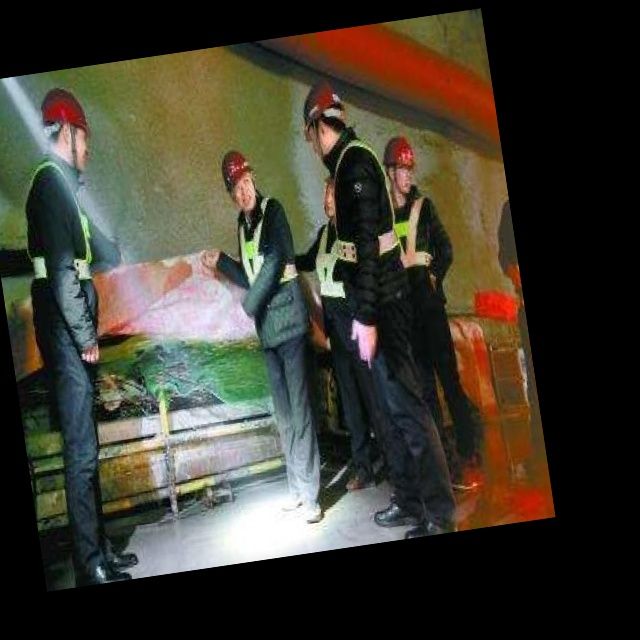Con_Casco: (301, 80, 353, 158)
Con_Chaleco: (18, 154, 101, 297), (236, 196, 304, 309)
